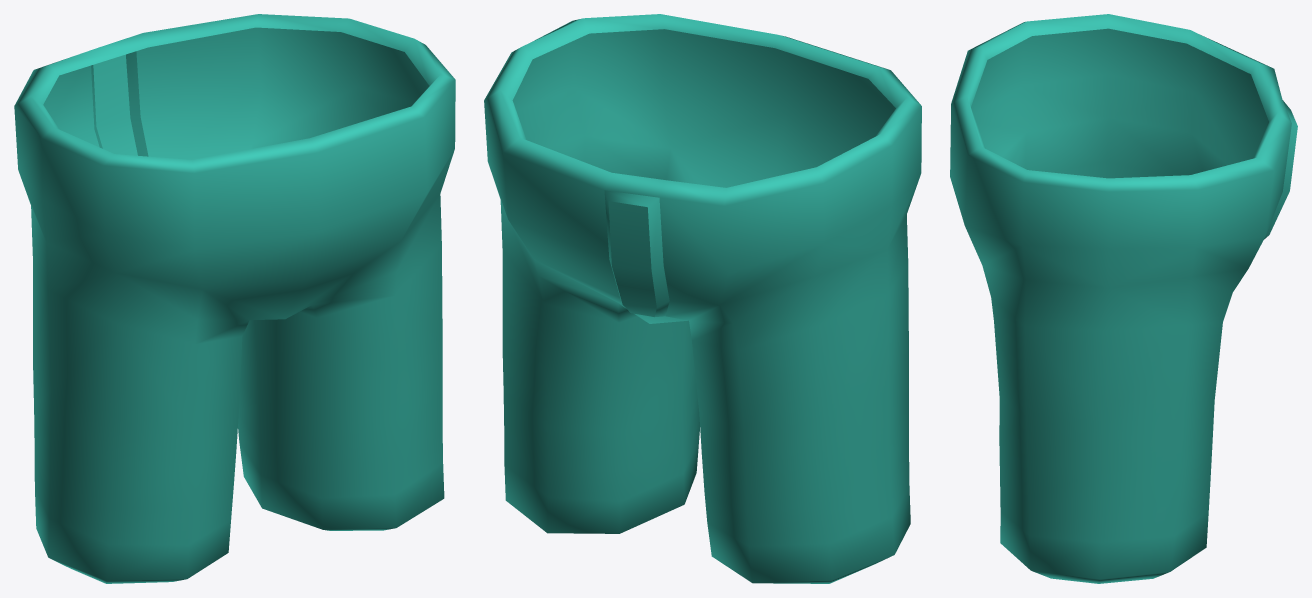
File: Bottom_14.fbx
The picture shows the model from 3 angles, left to right: view 1: azimuth 30°, elevation 25°; view 2: azimuth 150°, elevation 25°; view 3: azimuth 270°, elevation 25°; orthographic projection. The views are drawn at different scales.
Visible parts, largest first — view 1: Bottom_14; view 2: Bottom_14; view 3: Bottom_14.
Boxes of the visible parts, left/top/right/bottom form: Bottom_14: left=14, top=14, right=455, bottom=583; Bottom_14: left=484, top=14, right=921, bottom=583; Bottom_14: left=950, top=14, right=1297, bottom=583.
Size of the model in its own units: 37.99 by 42.06 by 31.97.
